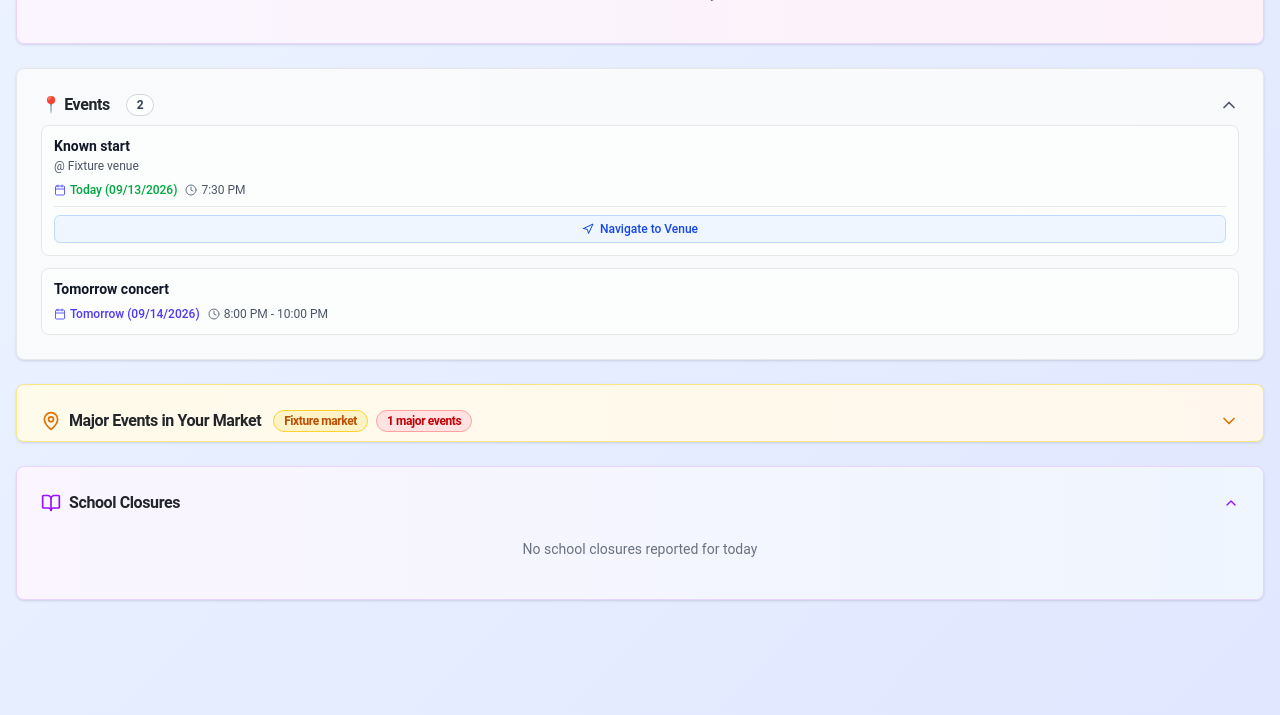
Test: upstream briefing aggregate through its real provider, page, and event cards while Strategy is held › shows local today and upcoming events, including a known start without an end time
(page scrolled)
expect the heading "Known start" is shown: met, box [54,138,130,154]
expect the heading "Tomorrow concert" is shown: met, box [54,280,169,296]
Click the text "Major Events in Your Market".
click(165, 421)  # box [69,409,261,433]
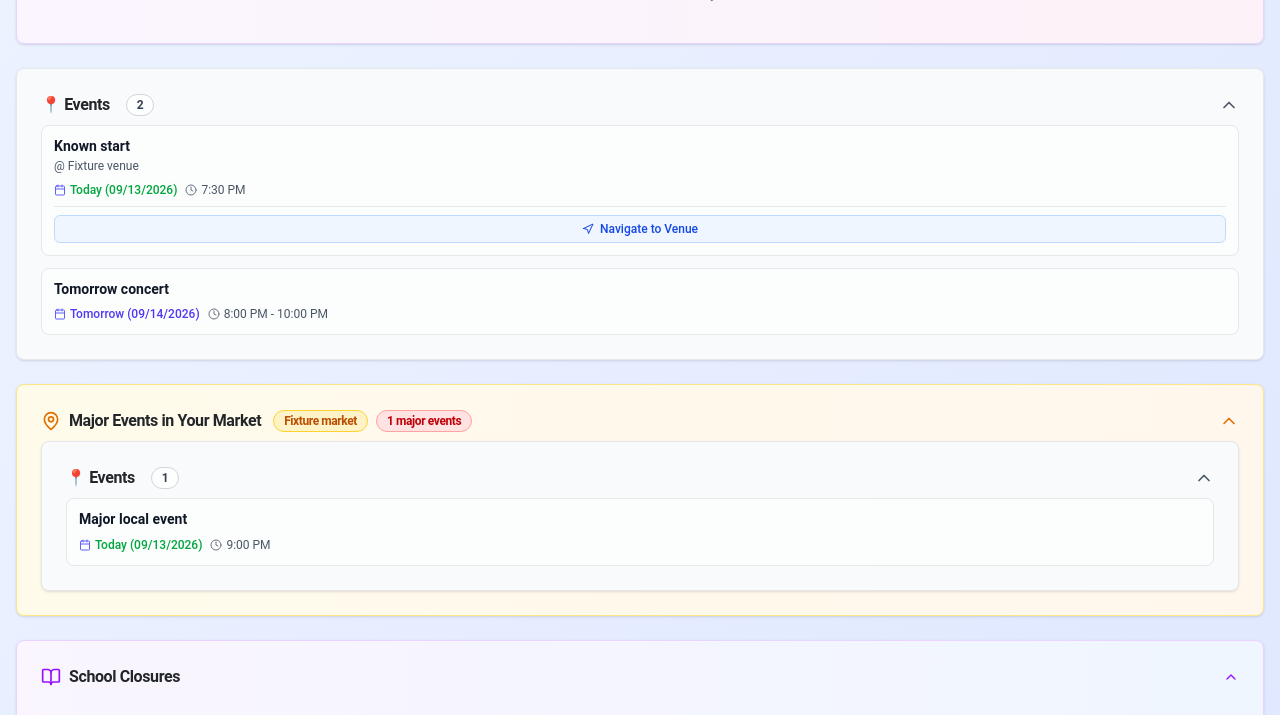
expect the heading "Major local event" is shown: met, box [79,511,187,527]
